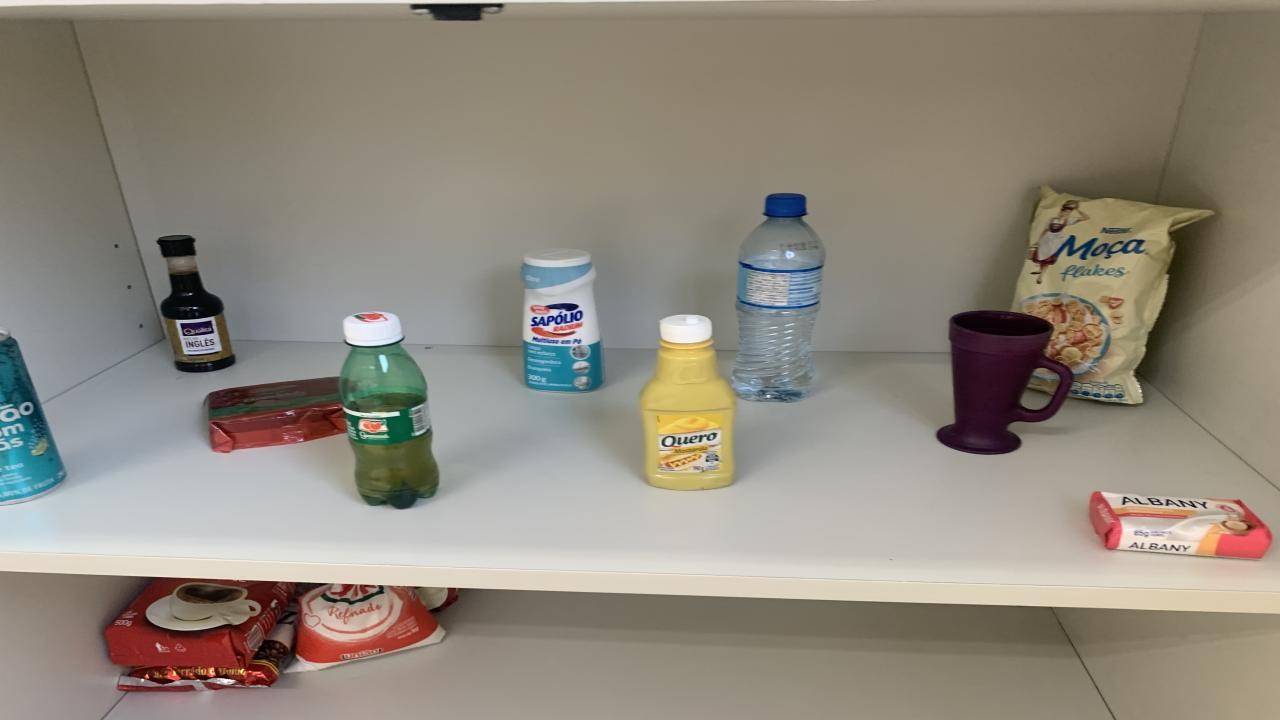Cleaner-Cleanup_Items: (520, 248, 605, 392)
English_Sauce-Pantry_Items: (158, 234, 235, 373)
Flakes-Snacks: (1012, 186, 1212, 405)
Guarana-Drinks: (338, 311, 440, 508)
Guava-Snacks: (205, 377, 345, 452)
Mustard-Pantry_Items: (640, 315, 735, 489)
Soap-Cleanup_Items: (1090, 491, 1272, 559)
Tea-Drinks: (0, 330, 65, 504)
Water_Bottle-Drinks: (732, 193, 825, 401)
